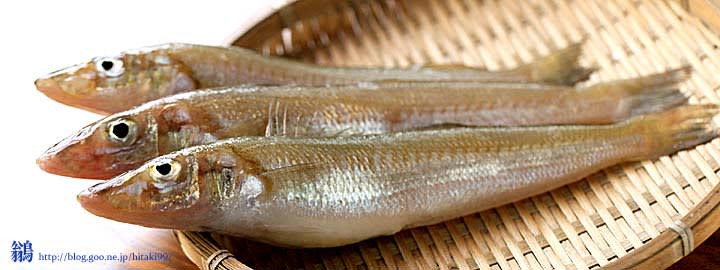kiss: (84, 123, 705, 240), (33, 83, 697, 181), (32, 36, 608, 103)
